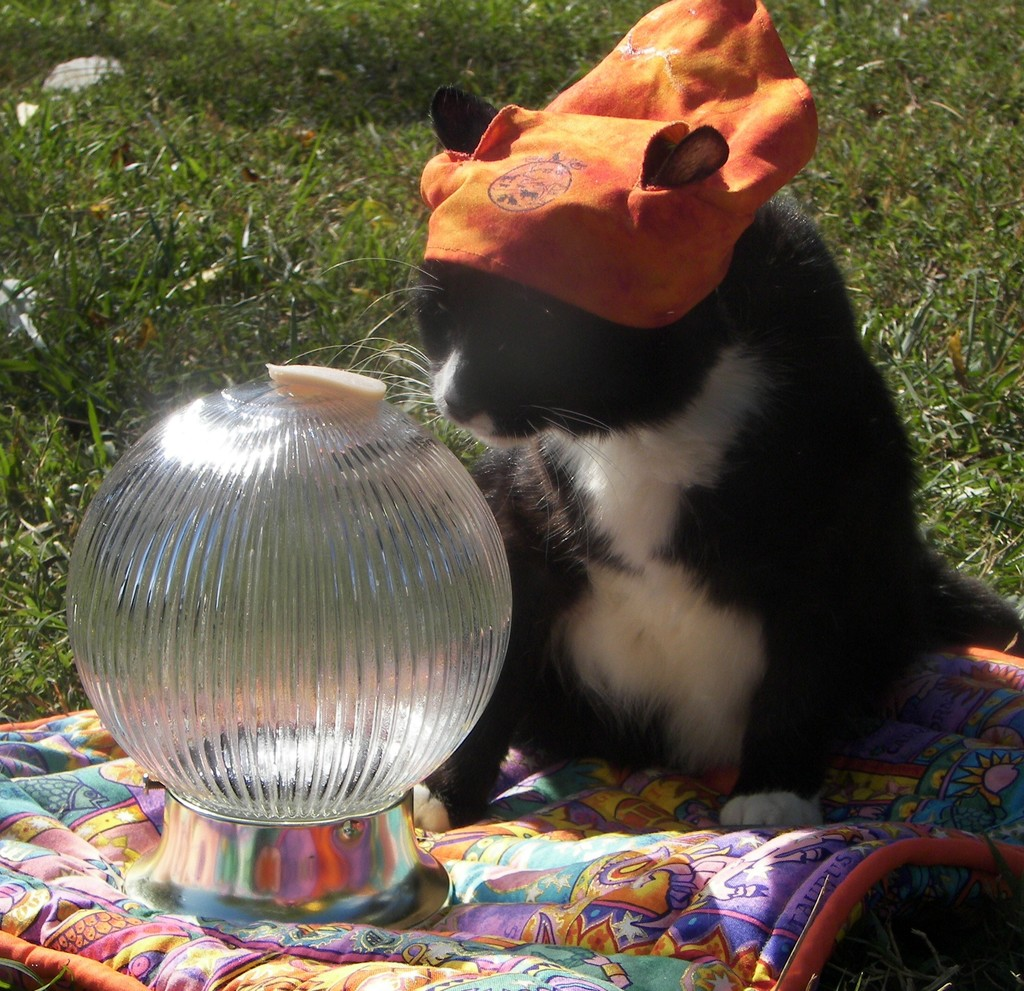Animal: (277, 84, 1023, 829)
